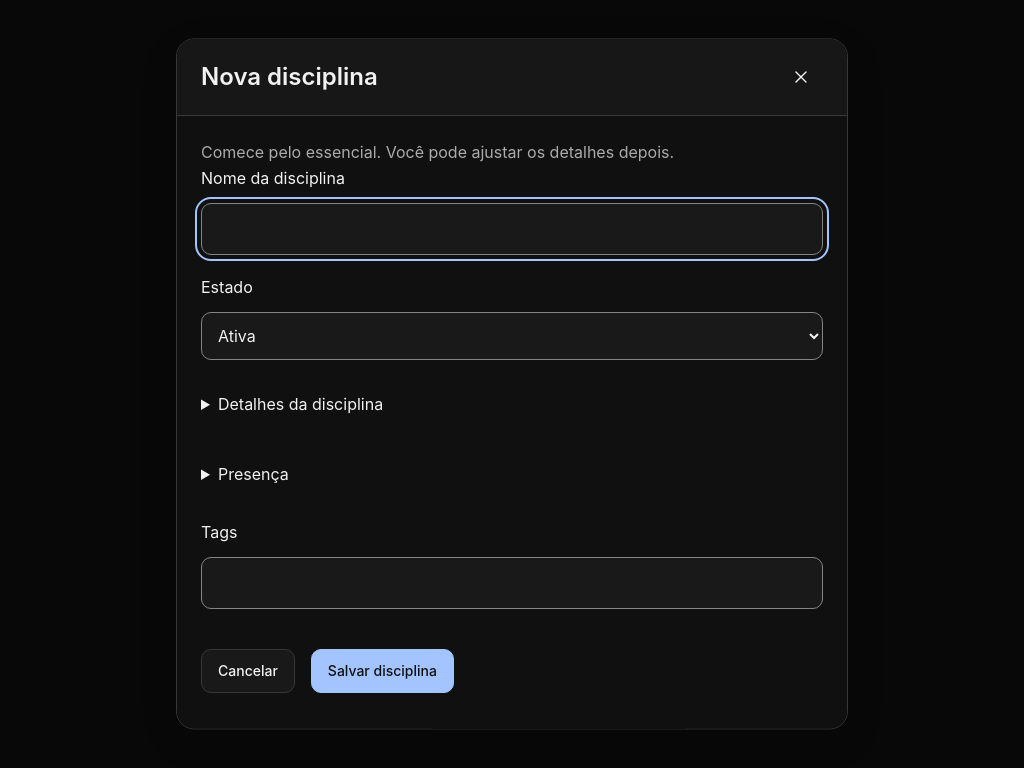
Scenario: edição de Estudos com gravação pendente › mantém o rascunho e explica uma falha de banco sem fechar ou navegar
This screenshot has width=1024, height=768.
Type "Rascunho de Redes" into the field labelled "Nome da disciplina" at (512, 229), box [201,204,823,255]
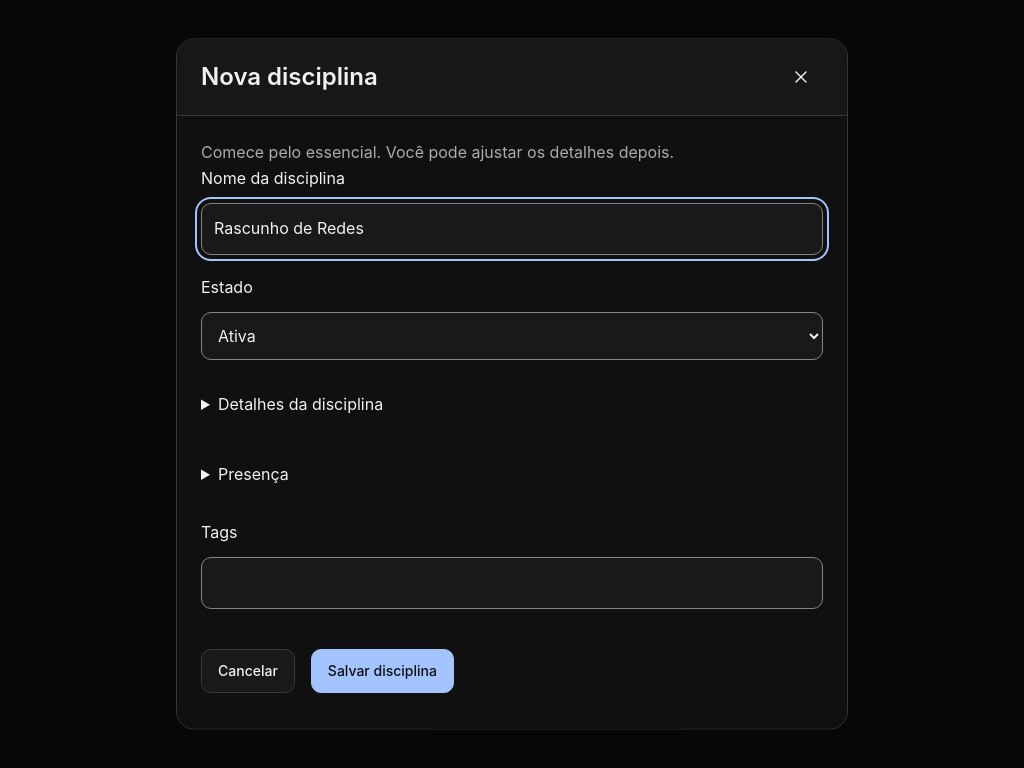
Submit the form named "Salvar disciplina", box [201,166,823,713]
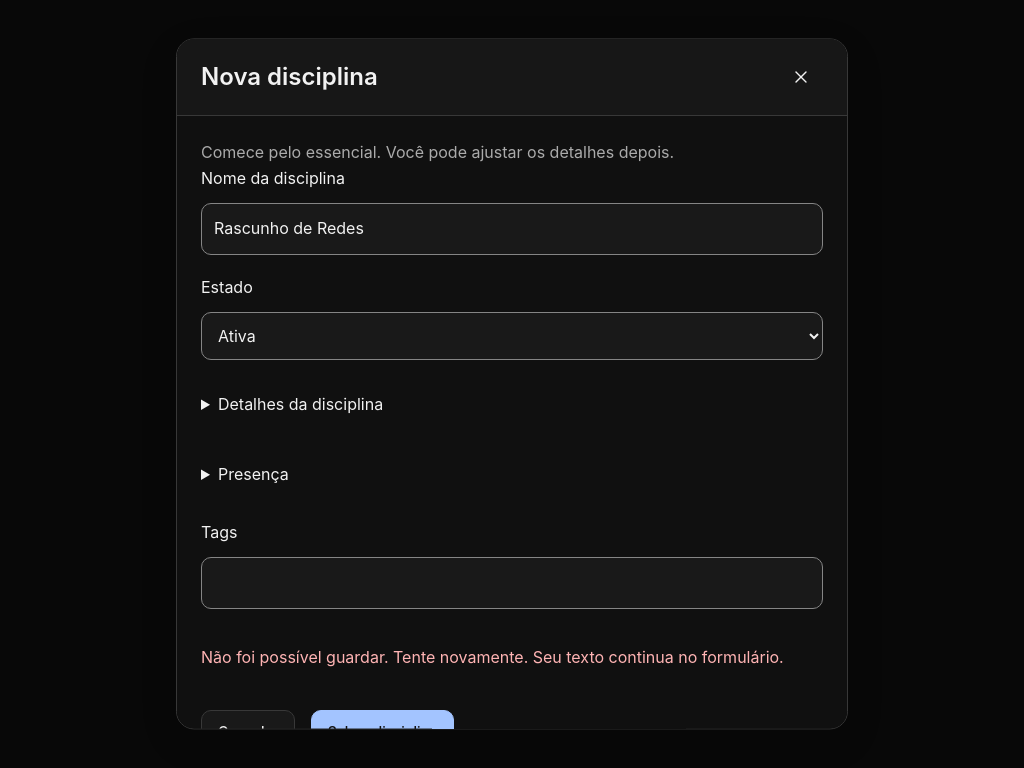
Check: the message shows "Tente novamente.", box [201,647,528,667]
